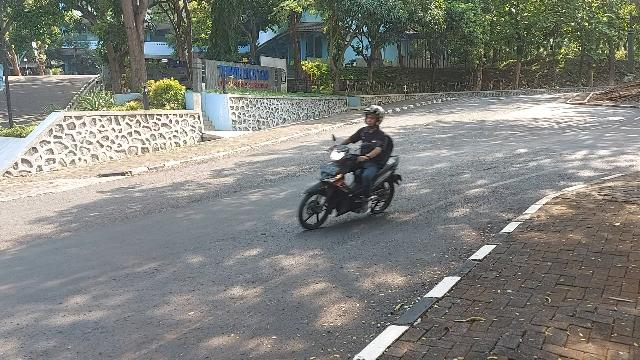helm: (364, 106, 385, 127)
motor: (299, 134, 403, 232)
